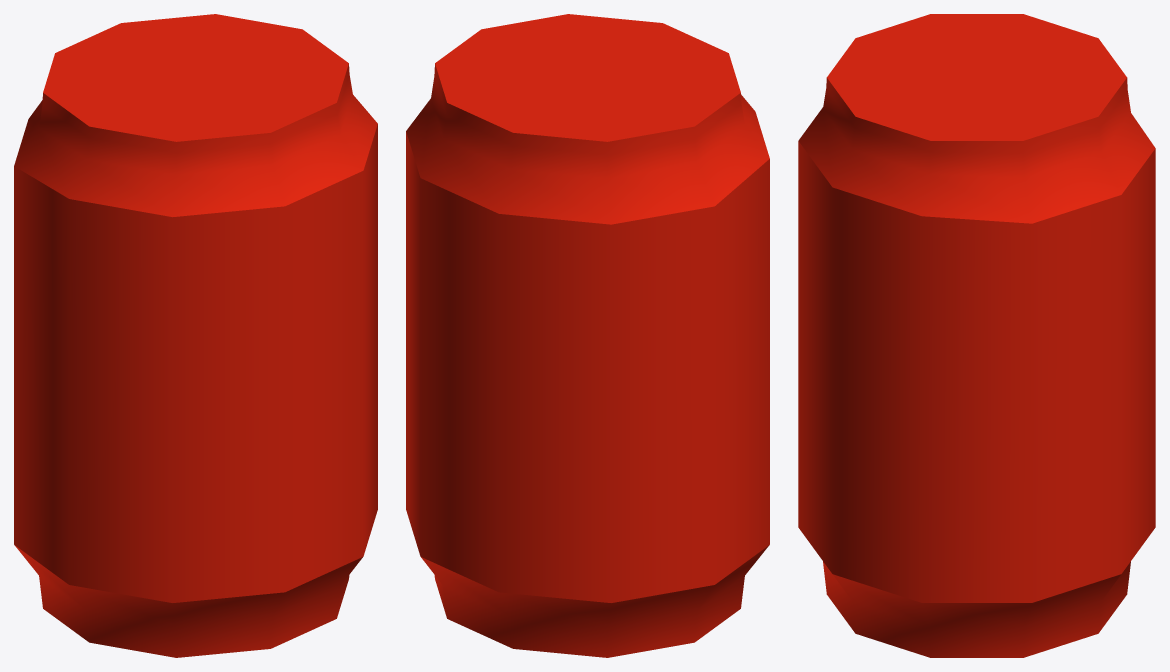
The model's file is sodacan.fbx.
The picture shows the model from 3 angles, left to right: view 1: azimuth 30°, elevation 25°; view 2: azimuth 150°, elevation 25°; view 3: azimuth 270°, elevation 25°; orthographic projection.
Visible parts, largest first — view 1: soda; view 2: soda; view 3: soda.
Part boxes in pixels (left/top/right/bottom): soda: left=14, top=14, right=377, bottom=657; soda: left=406, top=14, right=769, bottom=657; soda: left=798, top=14, right=1155, bottom=657.
Size of the model in its own units: 7.38 by 11.79 by 7.38.
